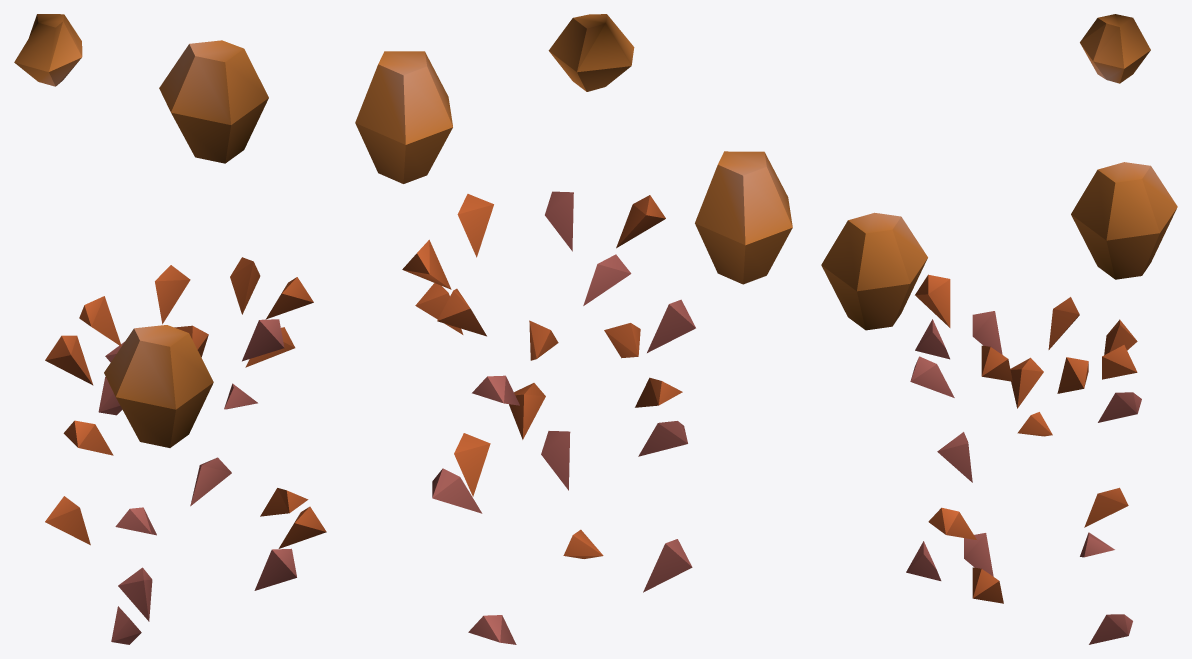
The model's file is blood_blitz_hit.glb.
3 views of the same model, side by side, from view 1: azimuth 30°, elevation 25°; view 2: azimuth 150°, elevation 25°; view 3: azimuth 270°, elevation 25° (orthographic). The views are drawn at different scales.
Parts seen in each view (by area): view 1: Blood blitz hit spotanim; view 2: Blood blitz hit spotanim; view 3: Blood blitz hit spotanim.
Boxes of the visible parts, x1,y1,x2,y2 form: Blood blitz hit spotanim: (14,14,326,644); Blood blitz hit spotanim: (355,14,792,644); Blood blitz hit spotanim: (821,14,1177,644).
Size of the model in its own units: 68 by 145 by 80.
